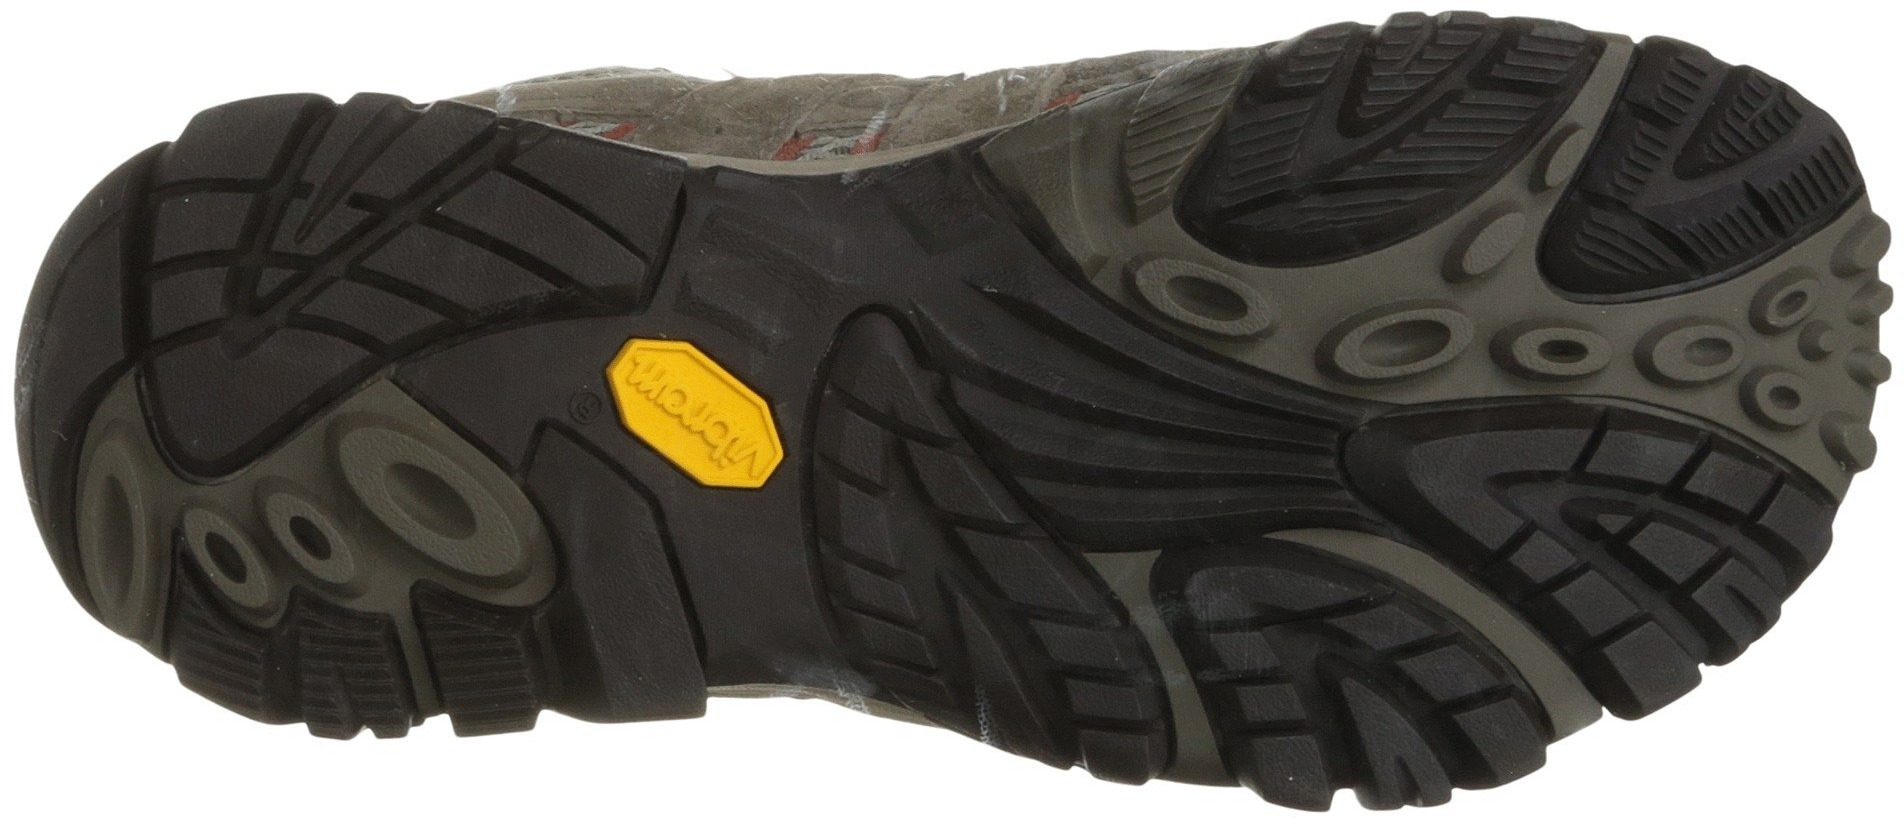circle: (248, 401, 492, 618), (1716, 283, 1880, 454)
line: (1163, 8, 1609, 263)
quad: (1163, 8, 1609, 263), (159, 150, 469, 375), (1477, 428, 1732, 640), (781, 403, 1024, 624), (1198, 608, 1412, 760)
text: (644, 365, 739, 462)
triangle: (1163, 8, 1609, 263), (159, 150, 469, 375), (1477, 428, 1732, 640), (1198, 608, 1412, 760)
